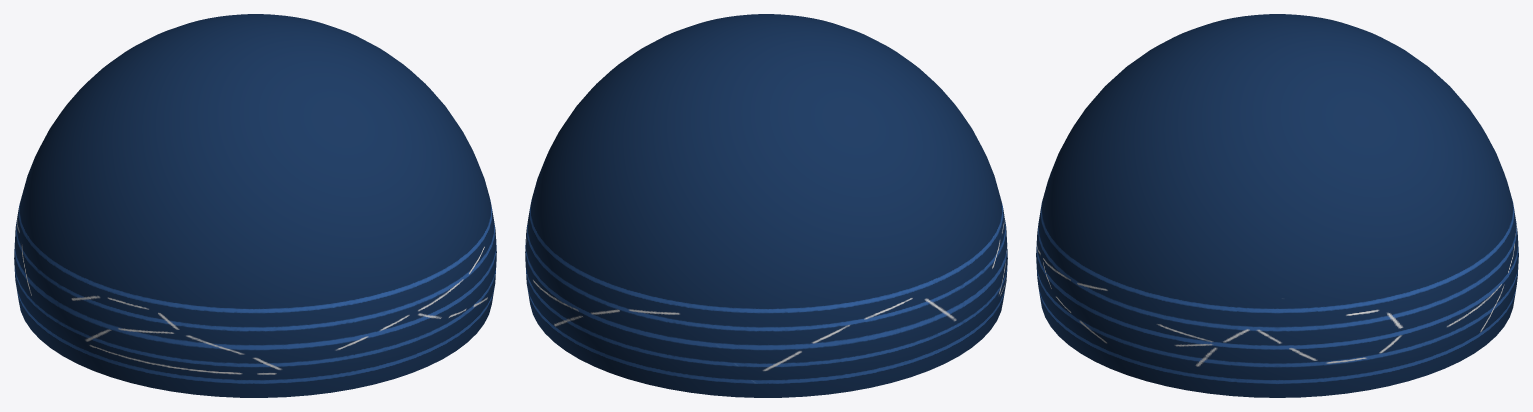
Rendered from dome.fbx.
3 views of the same model, side by side, from view 1: azimuth 30°, elevation 25°; view 2: azimuth 150°, elevation 25°; view 3: azimuth 270°, elevation 25° (orthographic).
Visible parts, largest first — view 1: Sphere; view 2: Sphere; view 3: Sphere.
Part boxes in pixels (x1=…): Sphere: x1=14, y1=14, x2=496, y2=397; Sphere: x1=525, y1=14, x2=1007, y2=397; Sphere: x1=1036, y1=14, x2=1518, y2=397.
Size of the model in its own units: 2000 by 1195 by 2000.
